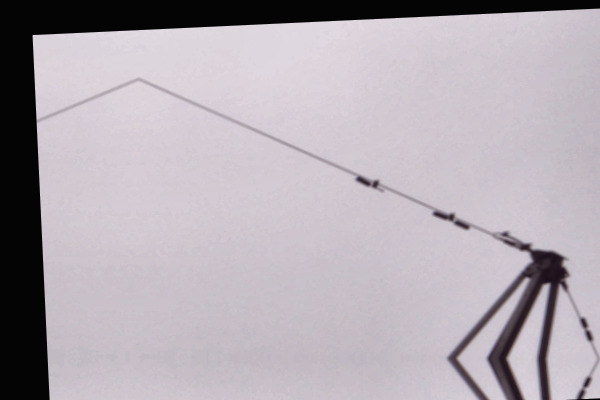damper: (430, 209, 470, 230), (578, 315, 594, 343)
damper_defect: (353, 174, 387, 194)
